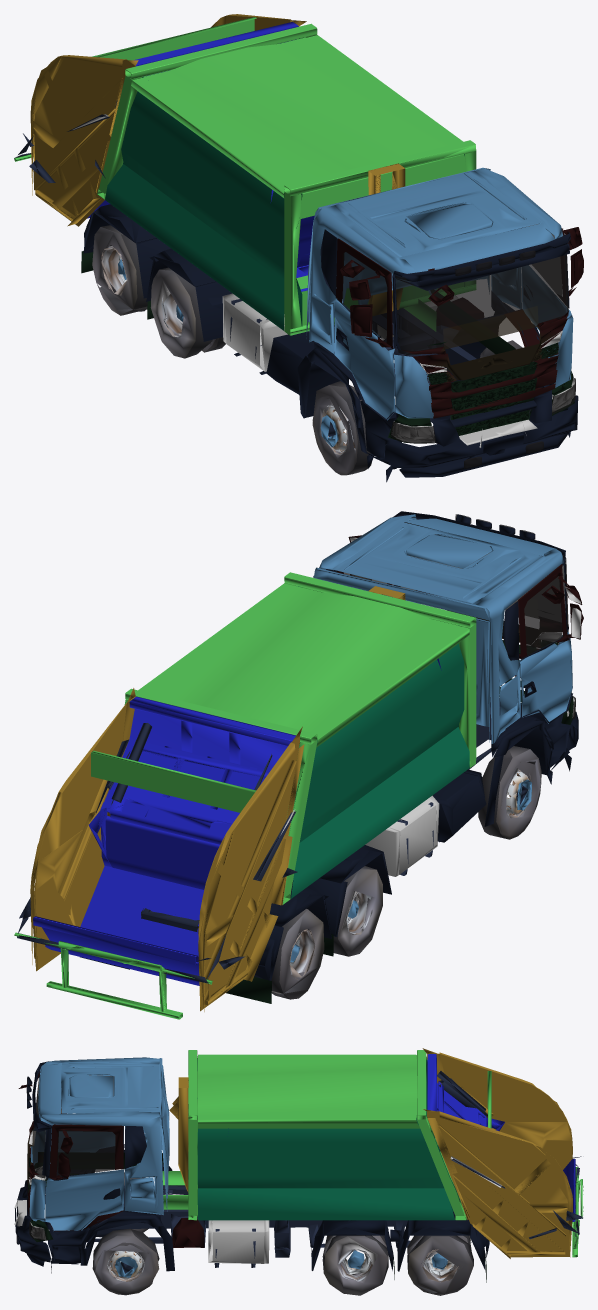
3 renders of one model, top to bottom at view 1: azimuth 30°, elevation 25°; view 2: azimuth 150°, elevation 25°; view 3: azimuth 270°, elevation 25°, orthographic. The views are drawn at different scales.
Parts seen in each view (by area): view 1: body, glass, wheel_FL, wheel_RL; view 2: body, glass, wheel_FL, wheel_RL; view 3: body, glass, wheel_FR, wheel_RR.
Part boxes in pixels (x1,y1,x2,y2): body: (14,14,583,482); glass: (342,224,575,468); wheel_FL: (312,396,370,475); wheel_RL: (96,246,147,315); body: (14,511,583,1019); glass: (342,514,575,718); wheel_FL: (485,761,540,839); wheel_RL: (271,929,319,999); body: (14,1048,583,1295); glass: (16,1071,116,1243); wheel_FR: (95,1242,156,1295); wheel_RR: (414,1245,466,1295).
Size of the model in its own units: 3.19 by 3.42 by 9.47.
